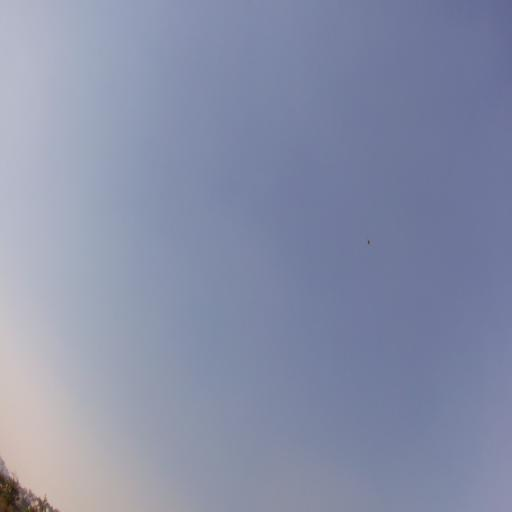drones: (365, 237, 372, 246)
